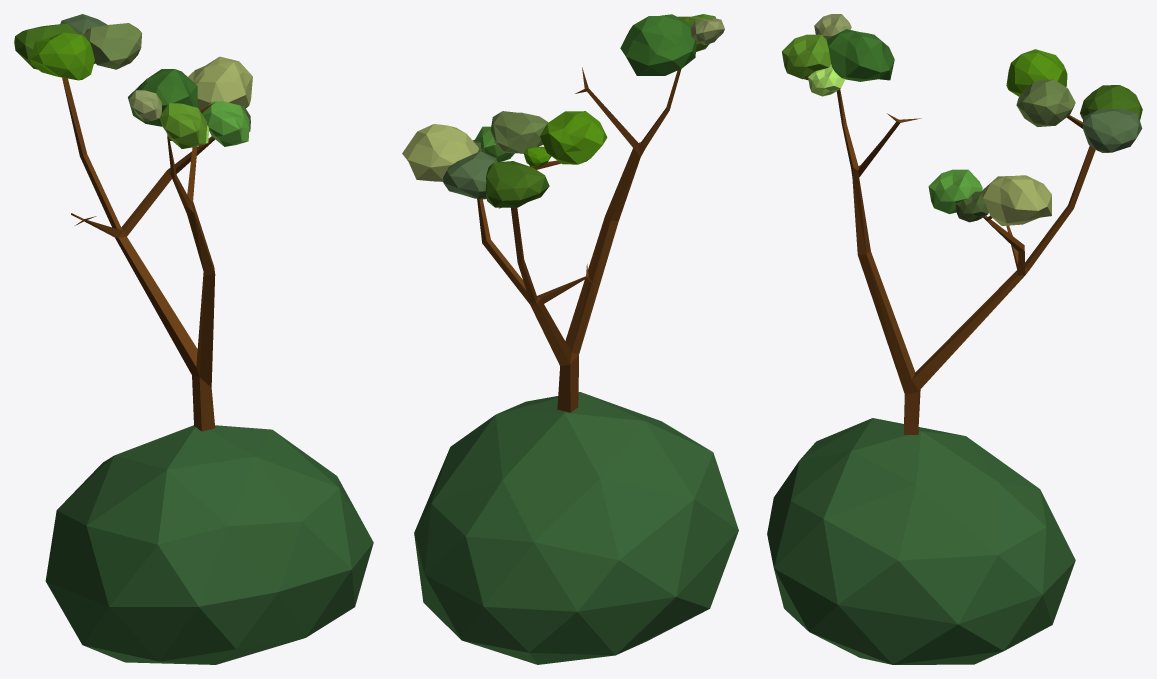
The model's file is tree2.fbx.
3 views of the same model, side by side, from view 1: azimuth 30°, elevation 25°; view 2: azimuth 150°, elevation 25°; view 3: azimuth 270°, elevation 25° (orthographic). The views are drawn at different scales.
Visible parts, largest first — view 1: Icosphere, Cube, Icosphere.004, Icosphere.008, Icosphere.003, Icosphere.009, Icosphere.011, Icosphere.006, Icosphere.001, Icosphere.013; view 2: Icosphere, Cube, Icosphere.009, Icosphere.008, Icosphere.004, Icosphere.001, Icosphere.003, Icosphere.015, Icosphere.013, Icosphere.006; view 3: Icosphere, Cube, Icosphere.008, Icosphere.009, Icosphere.015, Icosphere.003, Icosphere.004, Icosphere.011, Icosphere.006, Icosphere.001, Icosphere.010, Icosphere.007 (+1 smaller).
Boxes of the visible parts, x1,y1,x2,y2 form: Icosphere: (45, 425, 373, 664); Cube: (62, 77, 215, 431); Icosphere.004: (29, 32, 94, 80); Icosphere.008: (188, 56, 252, 113); Icosphere.003: (84, 23, 142, 69); Icosphere.009: (128, 69, 197, 126); Icosphere.011: (159, 103, 206, 148); Icosphere.006: (202, 101, 249, 146); Icosphere.001: (14, 23, 78, 69); Icosphere.013: (129, 90, 161, 121); Icosphere: (414, 392, 738, 664); Cube: (477, 67, 681, 412); Icosphere.009: (620, 14, 696, 75); Icosphere.008: (402, 124, 478, 181); Icosphere.004: (540, 111, 607, 164); Icosphere.001: (485, 161, 549, 207); Icosphere.003: (490, 111, 548, 153); Icosphere.015: (443, 151, 497, 199); Icosphere.013: (690, 18, 724, 44); Icosphere.006: (475, 126, 514, 161); Icosphere: (767, 418, 1075, 664); Cube: (803, 77, 1095, 434); Icosphere.008: (981, 175, 1051, 225); Icosphere.009: (826, 29, 894, 81); Icosphere.015: (1082, 109, 1142, 152); Icosphere.003: (1016, 79, 1075, 126); Icosphere.004: (1006, 49, 1067, 96); Icosphere.011: (782, 34, 830, 79); Icosphere.006: (928, 169, 982, 214); Icosphere.001: (1080, 85, 1142, 119); Icosphere.010: (808, 65, 845, 96); Icosphere.007: (955, 191, 988, 222).
Size of the model in its own units: 230 by 511 by 298.
